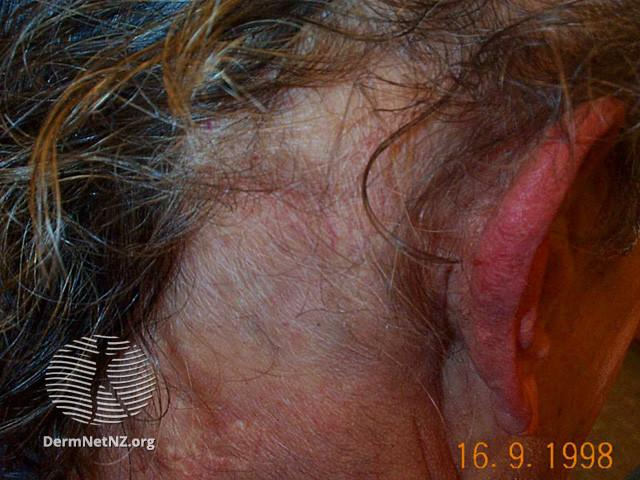Alopecia Areata: (145, 102, 417, 365)
